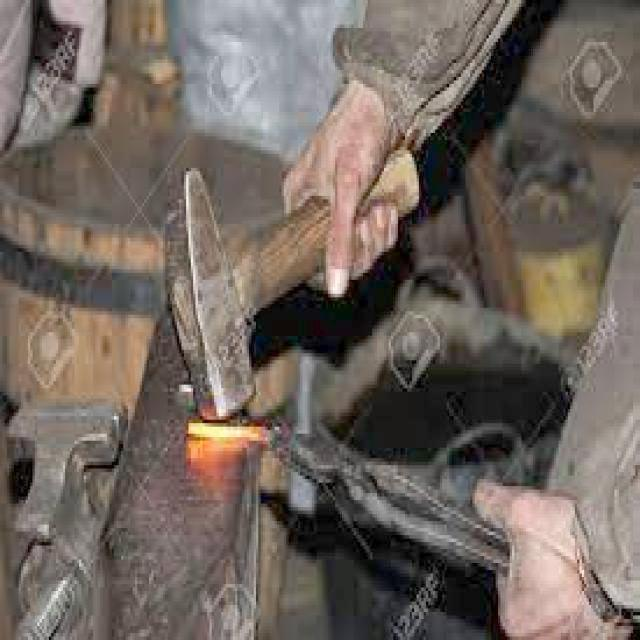hammer: (152, 143, 427, 434)
